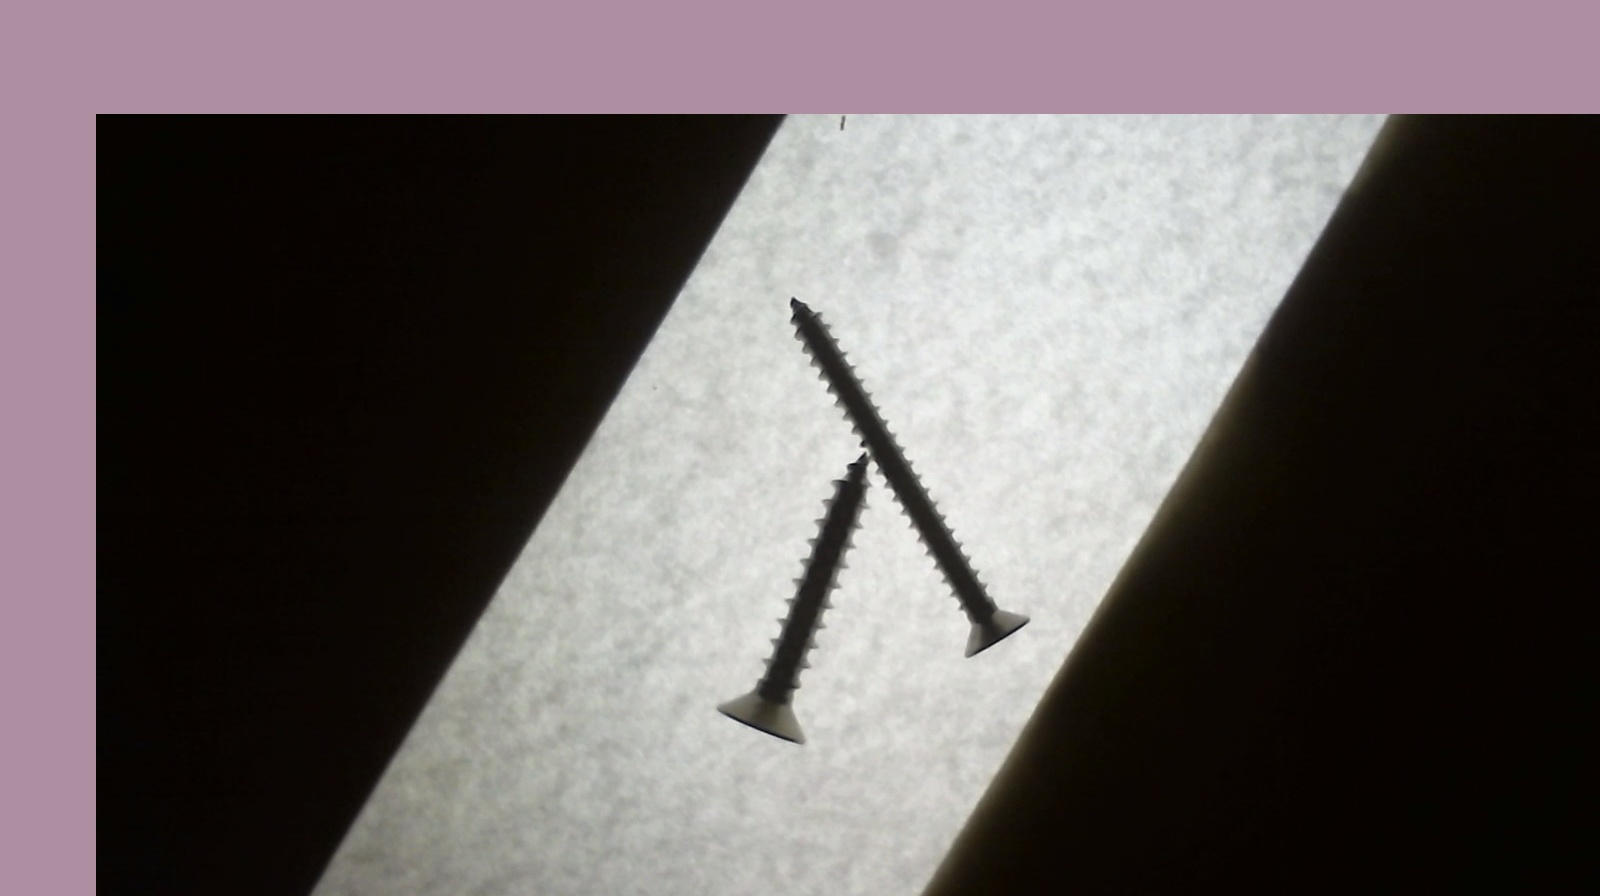S001: (702, 456, 875, 757)
S002: (776, 283, 1024, 660)
